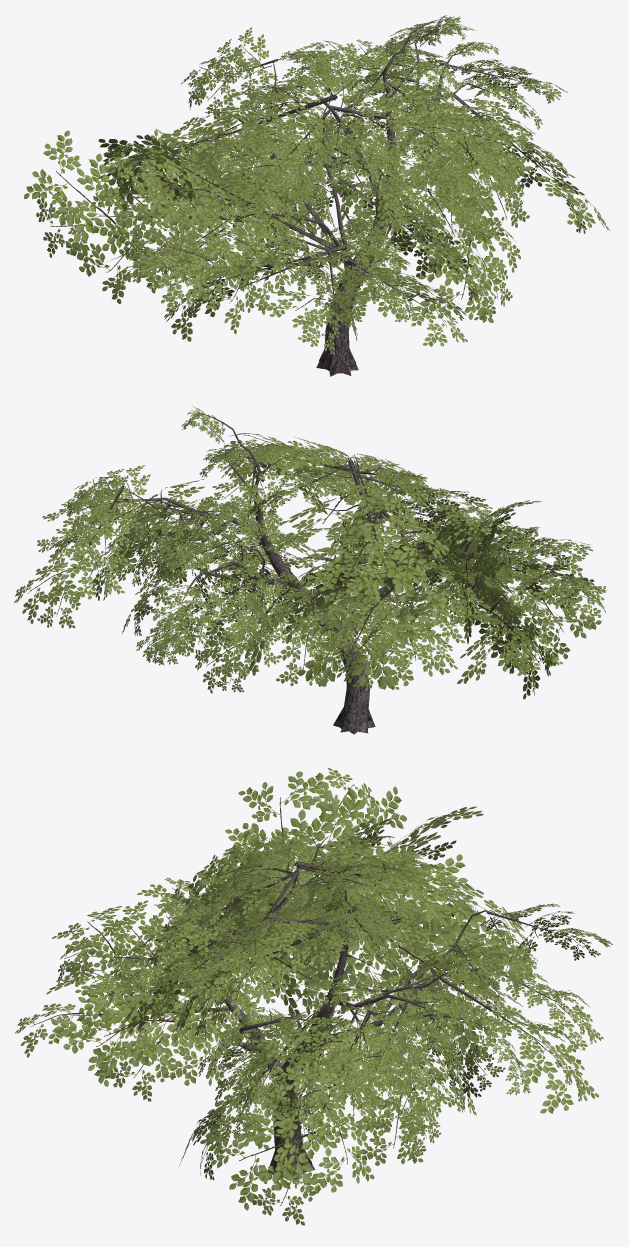
File: Tree.FBX
3 renders of one model, top to bottom at view 1: azimuth 30°, elevation 25°; view 2: azimuth 150°, elevation 25°; view 3: azimuth 270°, elevation 25°, orthographic. The views are drawn at different scales.
Parts seen in each view (by area): view 1: Tree Trunks; view 2: Tree Trunks; view 3: Tree Trunks.
Boxes of the visible parts, x1,y1,x2,y2 form: Tree Trunks: (24, 15, 609, 376); Tree Trunks: (14, 406, 606, 734); Tree Trunks: (15, 768, 612, 1225).
Bounding box in the file's own units: 970 × 550 × 862.
